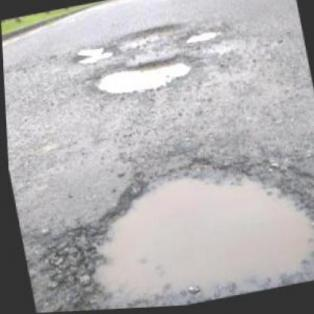Hueco: (30, 132, 313, 313), (87, 52, 203, 100), (115, 22, 188, 47), (72, 42, 116, 66), (181, 27, 226, 48)
